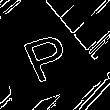P_N: (11, 20, 73, 81)
